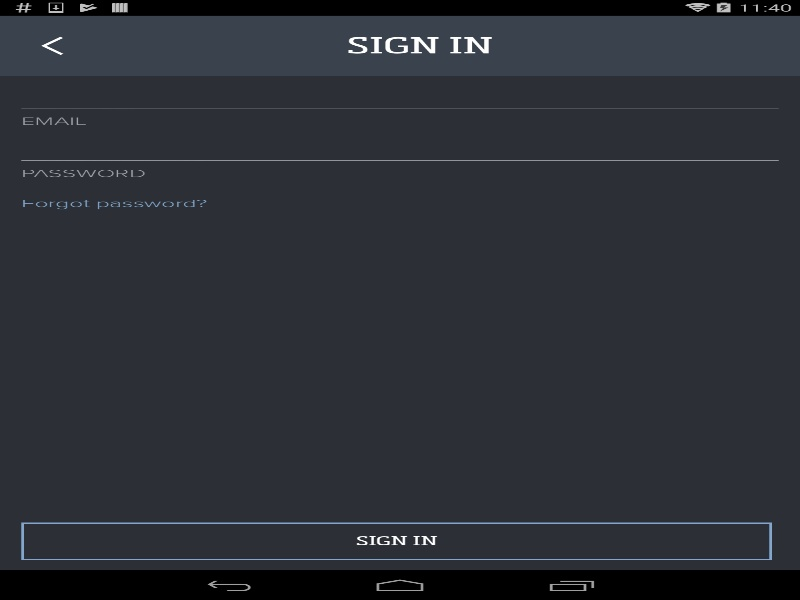Input: (21, 86, 778, 103), (21, 138, 778, 155)
